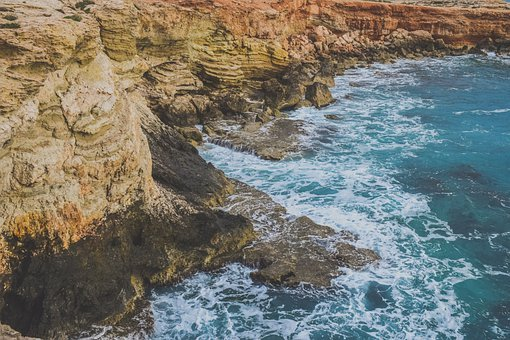sea: (183, 57, 510, 339)
stone: (7, 3, 295, 278)
